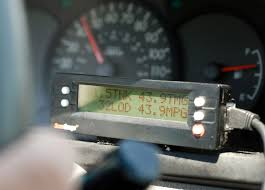Digital_Meter: (72, 81, 198, 128)
